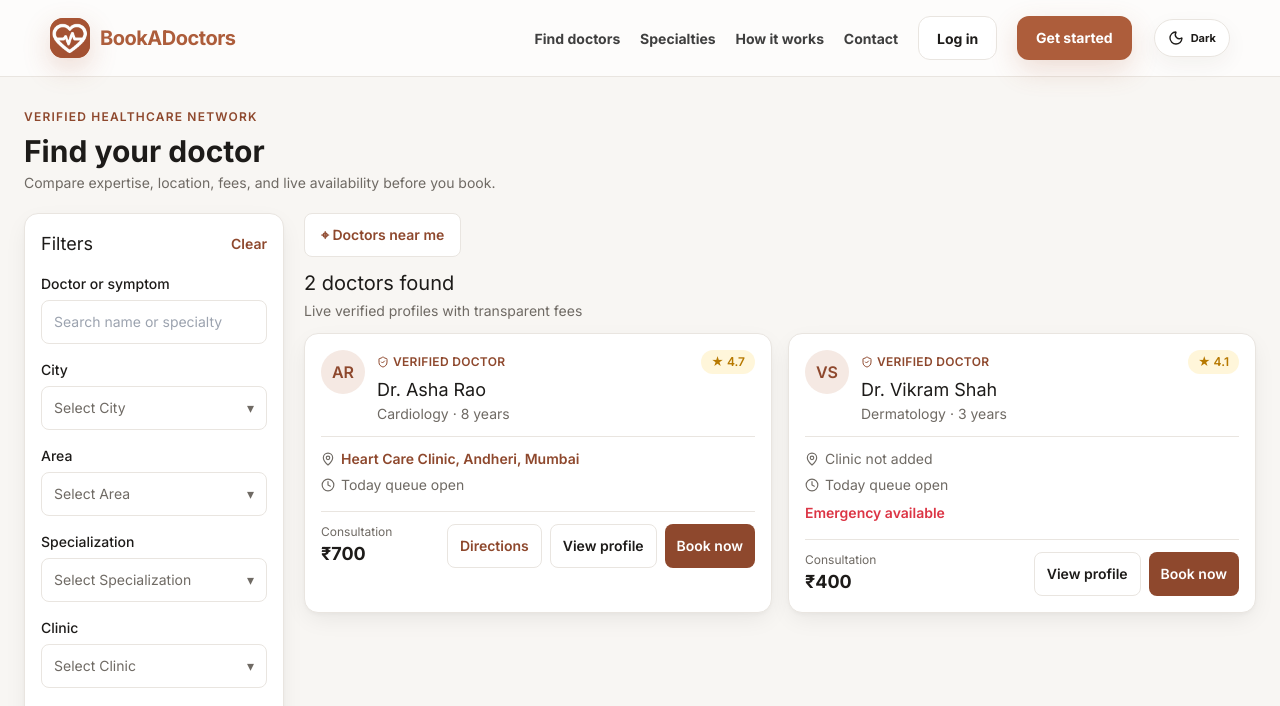
Test: SearchResults › clears applied filters back to the full list
Select "Cardiology" in the dropdown labelled "Specialization" at (154, 567), box [41,532,267,602]
(page scrolled)
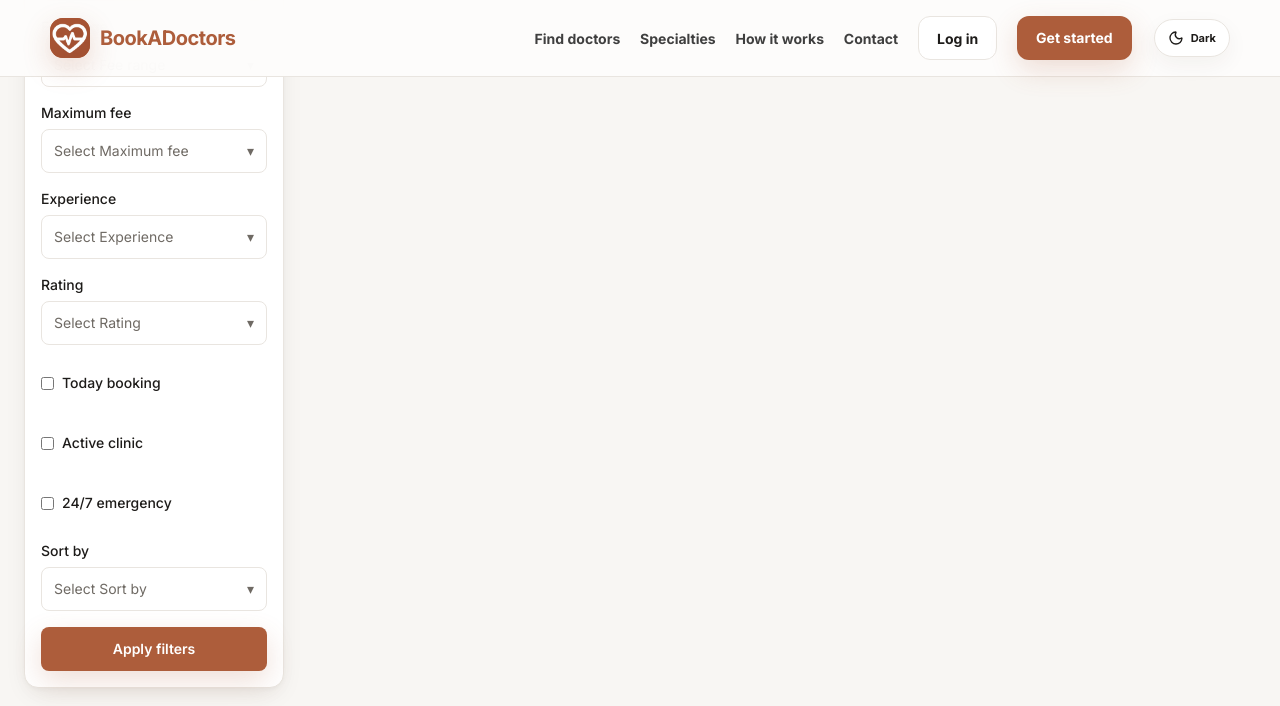
Click the button "Apply filters" at (154, 649), box [41,627,267,671]
(page scrolled)
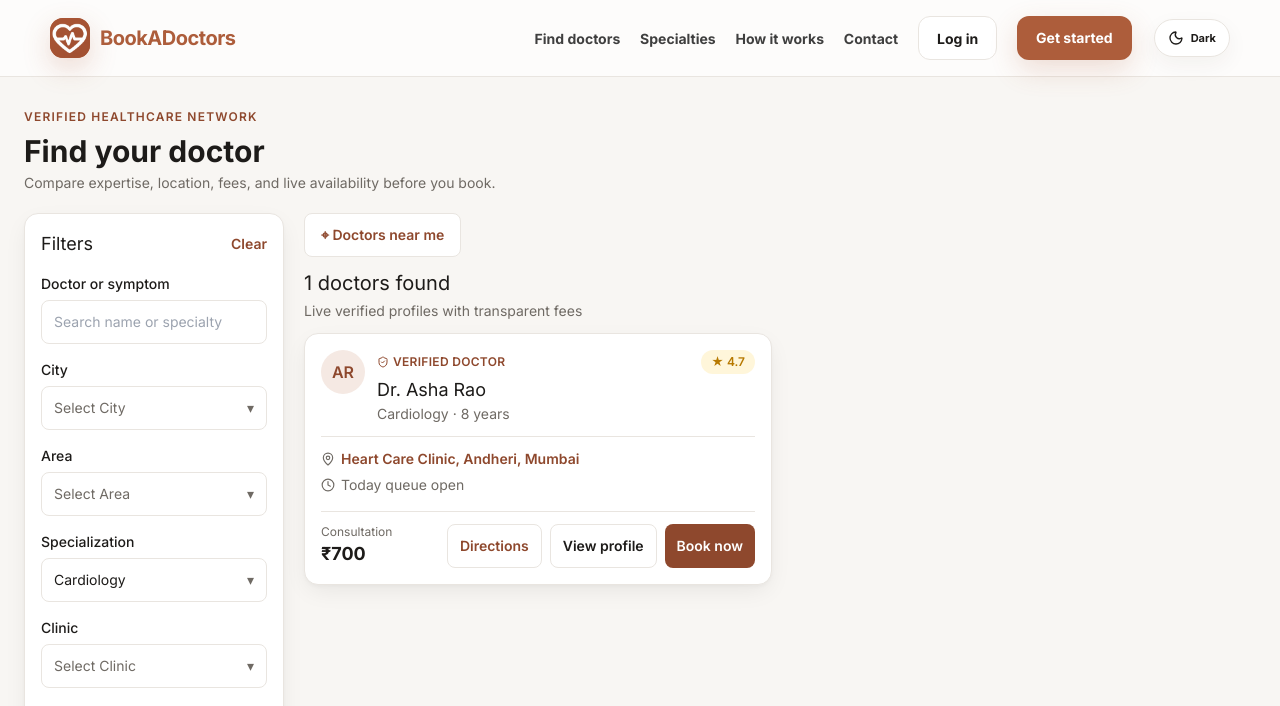
Result: the heading "1 doctors found" is shown at [304,271,450,295]
Click the button "Clear" at (249, 244), box [231,234,267,254]
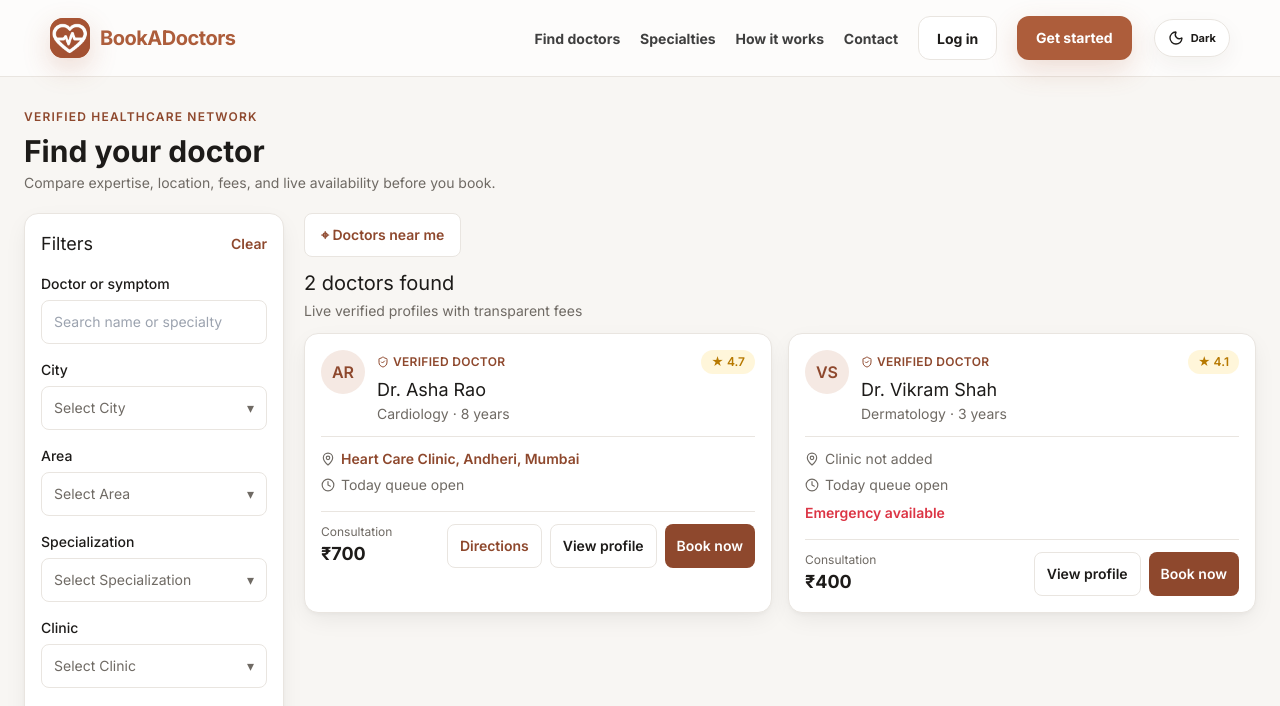
Result: the heading "2 doctors found" is shown at [304,271,454,295]
